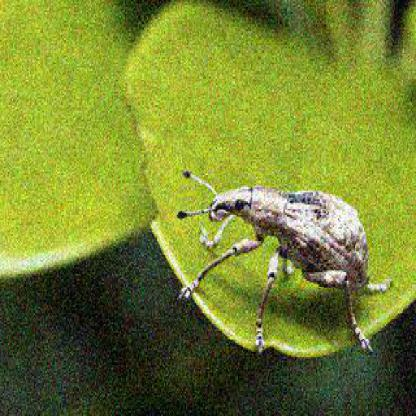ash weevil: (177, 171, 390, 352)
